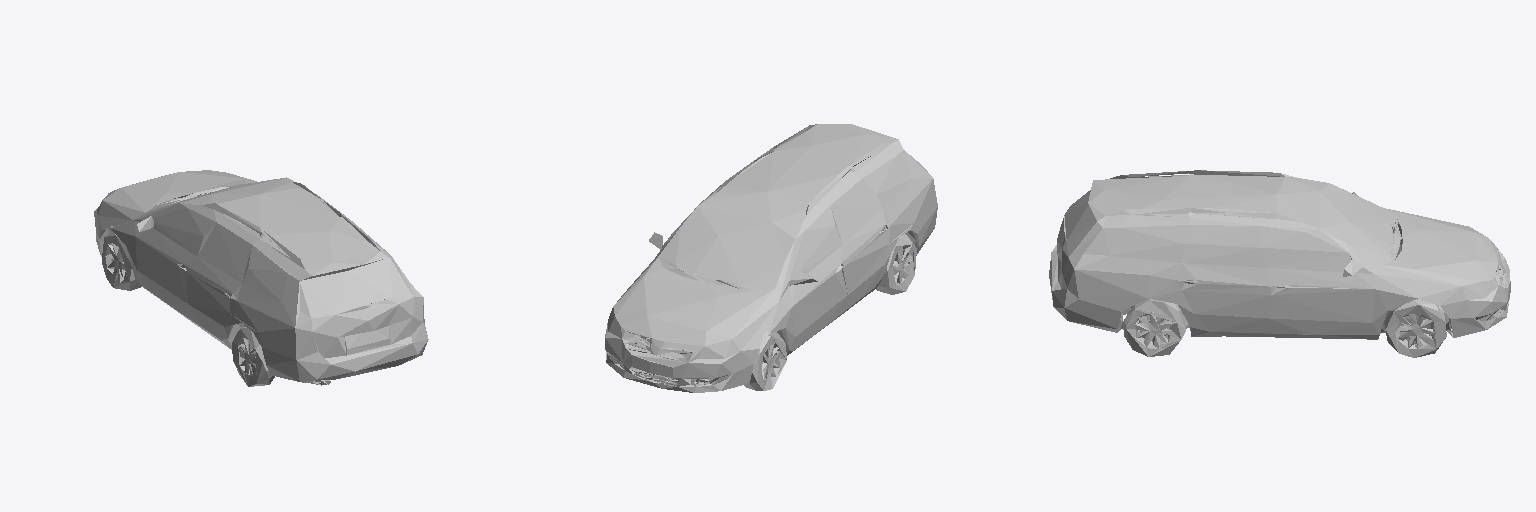
Rendered from passat_low.obj.
3 views of the same model, side by side, from view 1: azimuth 30°, elevation 25°; view 2: azimuth 150°, elevation 25°; view 3: azimuth 270°, elevation 25° (orthographic).
Visible parts, largest first — view 1: passat; view 2: passat; view 3: passat.
Boxes of the visible parts, box(x1,y1,x2,y2) form: passat: box(94, 170, 428, 386); passat: box(605, 124, 937, 392); passat: box(1049, 170, 1510, 357).
Size of the model in its own units: 2 by 1.54 by 4.79.